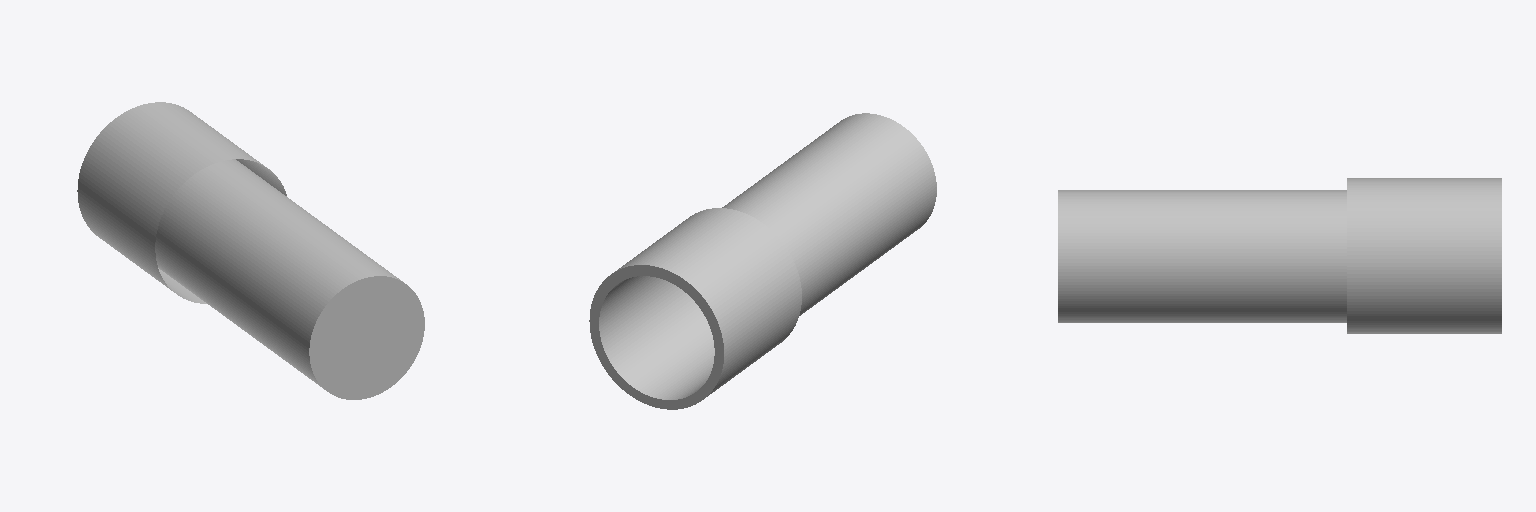
File: grs_big_consumer_pipe.obj
The picture shows the model from 3 angles: view 1: azimuth 30°, elevation 25°; view 2: azimuth 150°, elevation 25°; view 3: azimuth 270°, elevation 25°; orthographic projection.
Parts seen in each view (by area): view 1: obj1; view 2: obj1; view 3: obj1.
Boxes of the visible parts, x1=… form: obj1: x1=77, y1=102, x2=424, y2=399; obj1: x1=589, y1=113, x2=936, y2=409; obj1: x1=1058, y1=178, x2=1501, y2=333.
Bounding box in the file's own units: 0.7 × 0.6998 × 2.